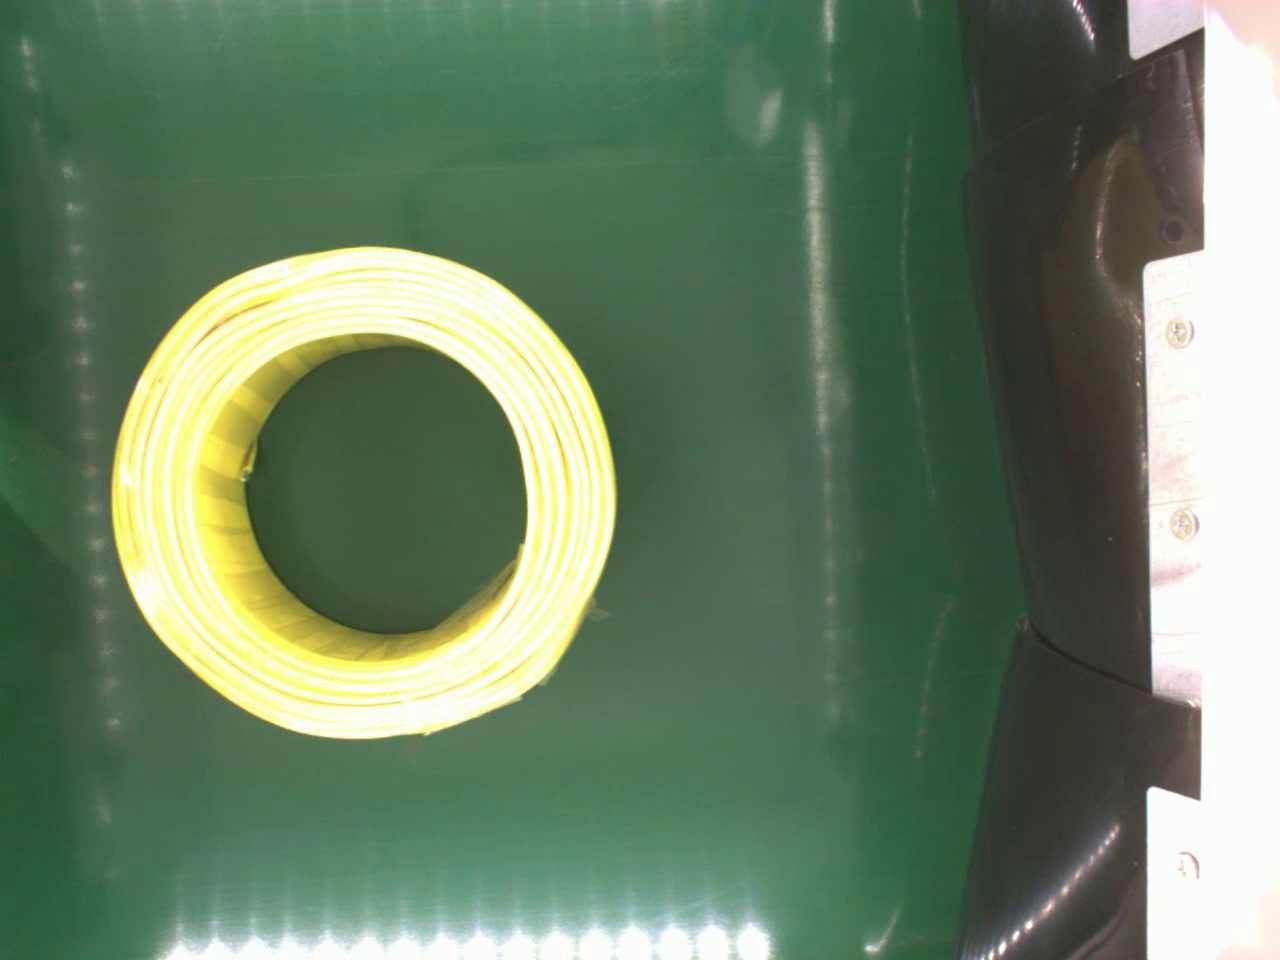yellow: (107, 234, 619, 738)
